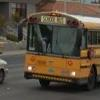Bus: (21, 5, 95, 89)
